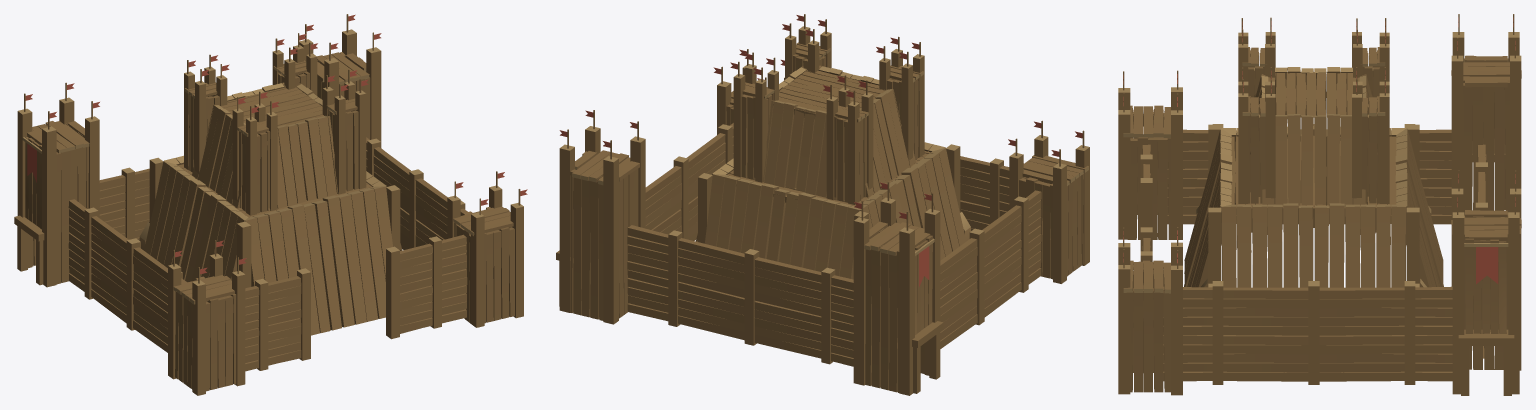
File: quaternius-real-time-strategy-wonder-first-age-level-2.glb
3 renders of one model, left to right at view 1: azimuth 30°, elevation 25°; view 2: azimuth 150°, elevation 25°; view 3: azimuth 270°, elevation 25°, orthographic. The views are drawn at different scales.
Parts seen in each view (by area): view 1: Wonder_FirstAge_Level2; view 2: Wonder_FirstAge_Level2; view 3: Wonder_FirstAge_Level2.
Boxes of the visible parts, <box> form: Wonder_FirstAge_Level2: <box>14,14,527,395</box>; Wonder_FirstAge_Level2: <box>556,14,1089,395</box>; Wonder_FirstAge_Level2: <box>1118,14,1521,395</box>.
Size of the model in its own units: 2.2 by 1.36 by 1.95.
